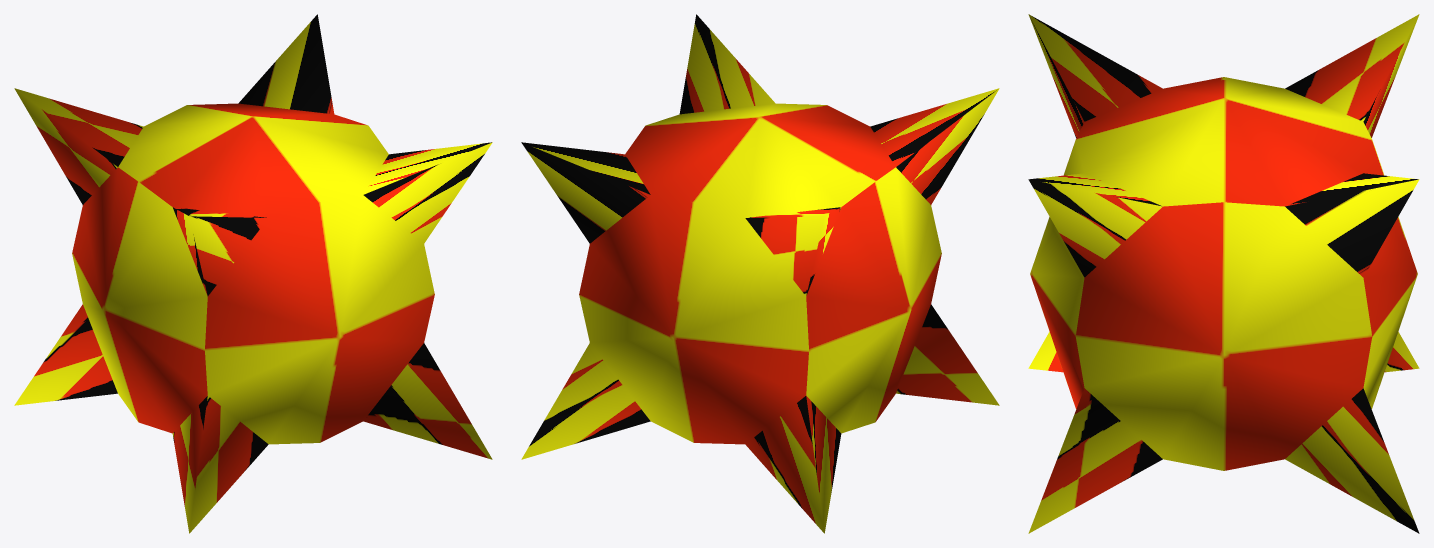
File: bullet1.fbx
The picture shows the model from 3 angles, left to right: view 1: azimuth 30°, elevation 25°; view 2: azimuth 150°, elevation 25°; view 3: azimuth 270°, elevation 25°; orthographic projection. The views are drawn at different scales.
Parts seen in each view (by area): view 1: Cube; view 2: Cube; view 3: Cube.
Part boxes in pixels (<box>): Cube: <box>14,14,492,533</box>; Cube: <box>521,14,999,533</box>; Cube: <box>1028,14,1419,533</box>.
Size of the model in its own units: 1.01 by 1.01 by 1.01.
Materials: 2 (2 with a texture image).
